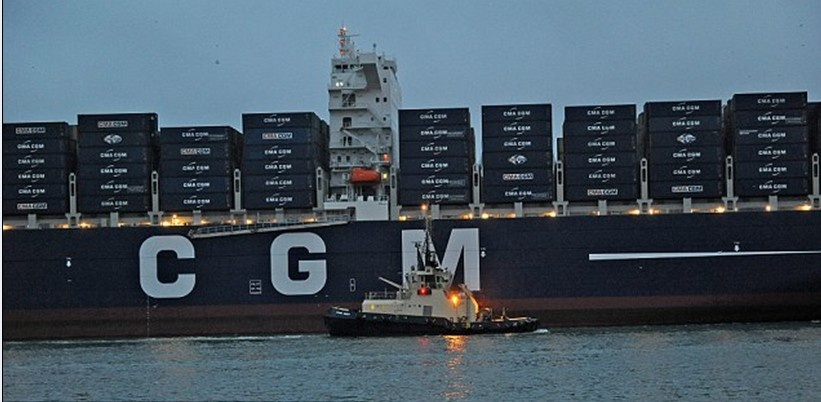Cargoship: (6, 21, 821, 342)
otherboat: (323, 238, 538, 345)
